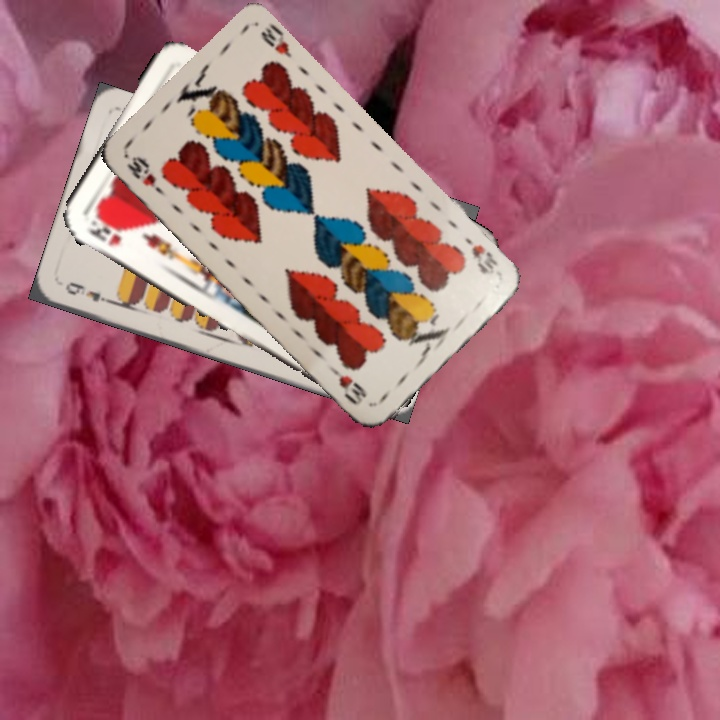E9: (61, 277, 116, 307)
H10: (122, 152, 168, 199), (461, 233, 500, 278)
HK: (84, 212, 124, 249)
